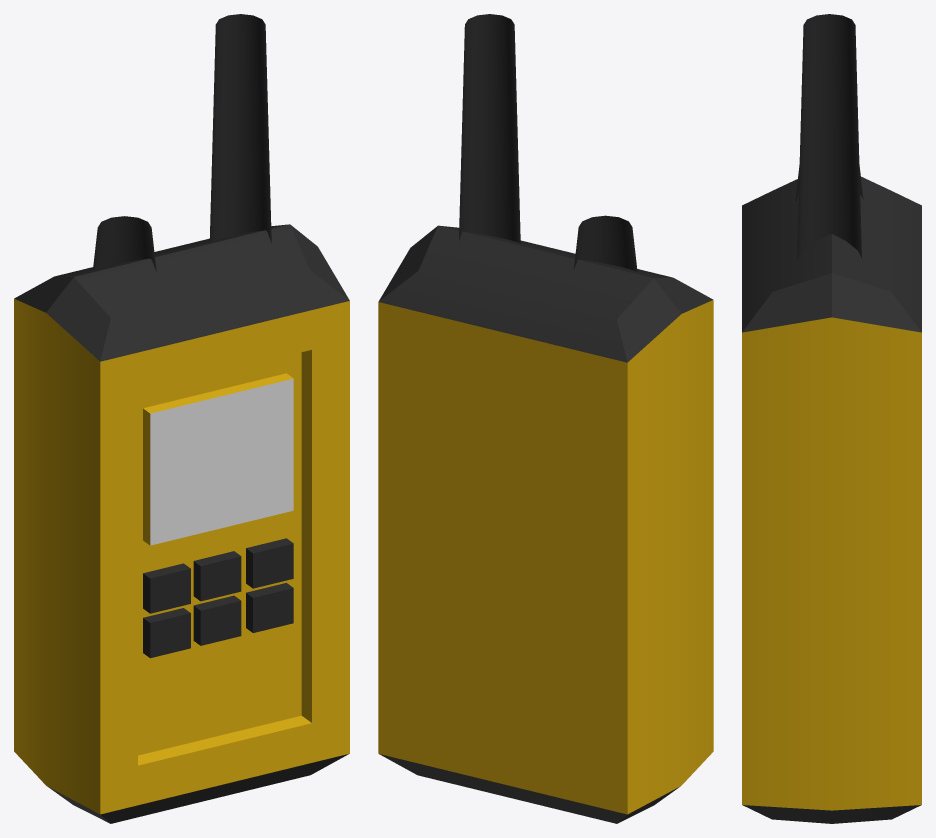
The model's file is Radio Comunicador.fbx.
3 views of the same model, side by side, from view 1: azimuth 30°, elevation 25°; view 2: azimuth 150°, elevation 25°; view 3: azimuth 270°, elevation 25° (orthographic). The views are drawn at different scales.
Parts seen in each view (by area): view 1: Radio Comunicador; view 2: Radio Comunicador; view 3: Radio Comunicador.
Boxes of the visible parts, left/top/right/bottom form: Radio Comunicador: left=14, top=14, right=349, bottom=823; Radio Comunicador: left=378, top=14, right=713, bottom=823; Radio Comunicador: left=742, top=14, right=921, bottom=823.
Bounding box in the file's own units: 9.78 × 25.47 × 5.38.
